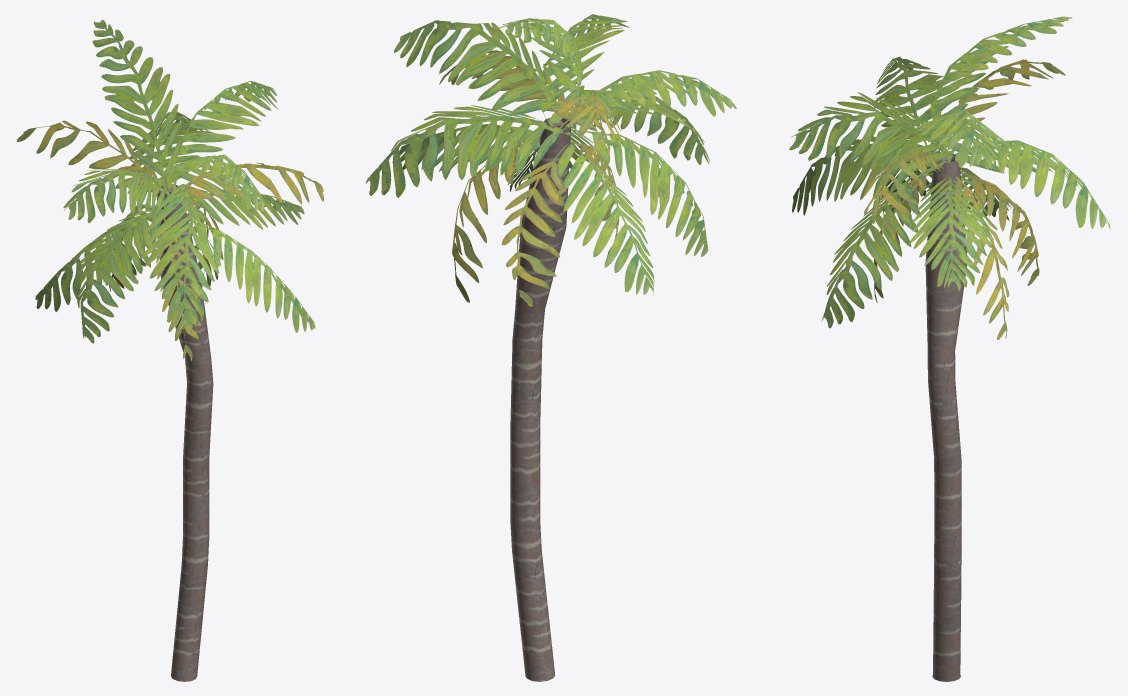
Rendered from SM_TreePalm.fbx.
3 renders of one model, left to right at view 1: azimuth 30°, elevation 25°; view 2: azimuth 150°, elevation 25°; view 3: azimuth 270°, elevation 25°, orthographic. The views are drawn at different scales.
Visible parts, largest first — view 1: SM_TreePalm, SM_TreePalm._bark, SM_TreePalm.001; view 2: SM_TreePalm, SM_TreePalm._bark, SM_TreePalm.001; view 3: SM_TreePalm, SM_TreePalm._bark, SM_TreePalm.001.
Part boxes in pixels (x1,y1,x2,y2): SM_TreePalm: (17,19,323,343); SM_TreePalm._bark: (157,184,213,681); SM_TreePalm.001: (103,196,223,360); SM_TreePalm: (365,14,736,295); SM_TreePalm._bark: (510,118,571,681); SM_TreePalm.001: (452,139,619,306); SM_TreePalm: (789,16,1110,328); SM_TreePalm._bark: (925,153,966,681); SM_TreePalm.001: (874,172,1039,340).
Bounding box in the file's own units: 734 × 1552 × 744.
